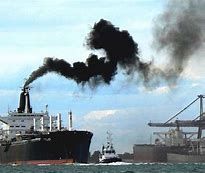smoke: (22, 17, 150, 87)
